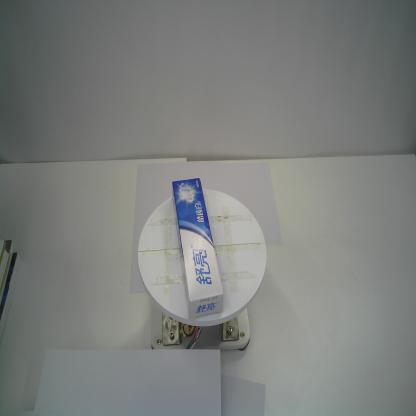Personal Hygiene: (170, 175, 225, 323)
